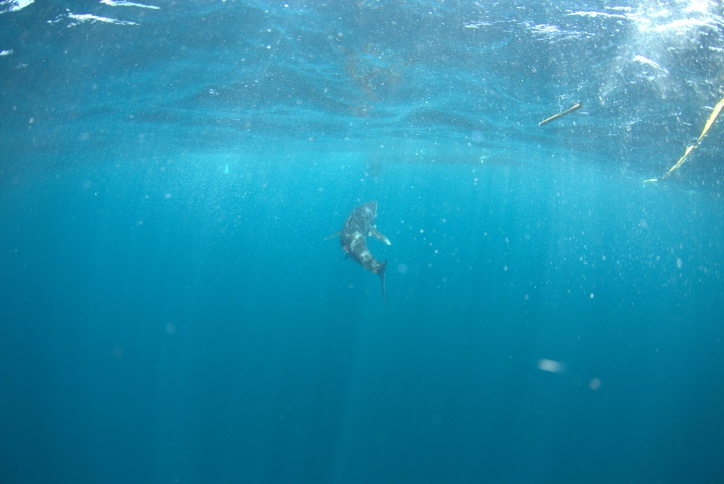Mako: (317, 194, 409, 305)
